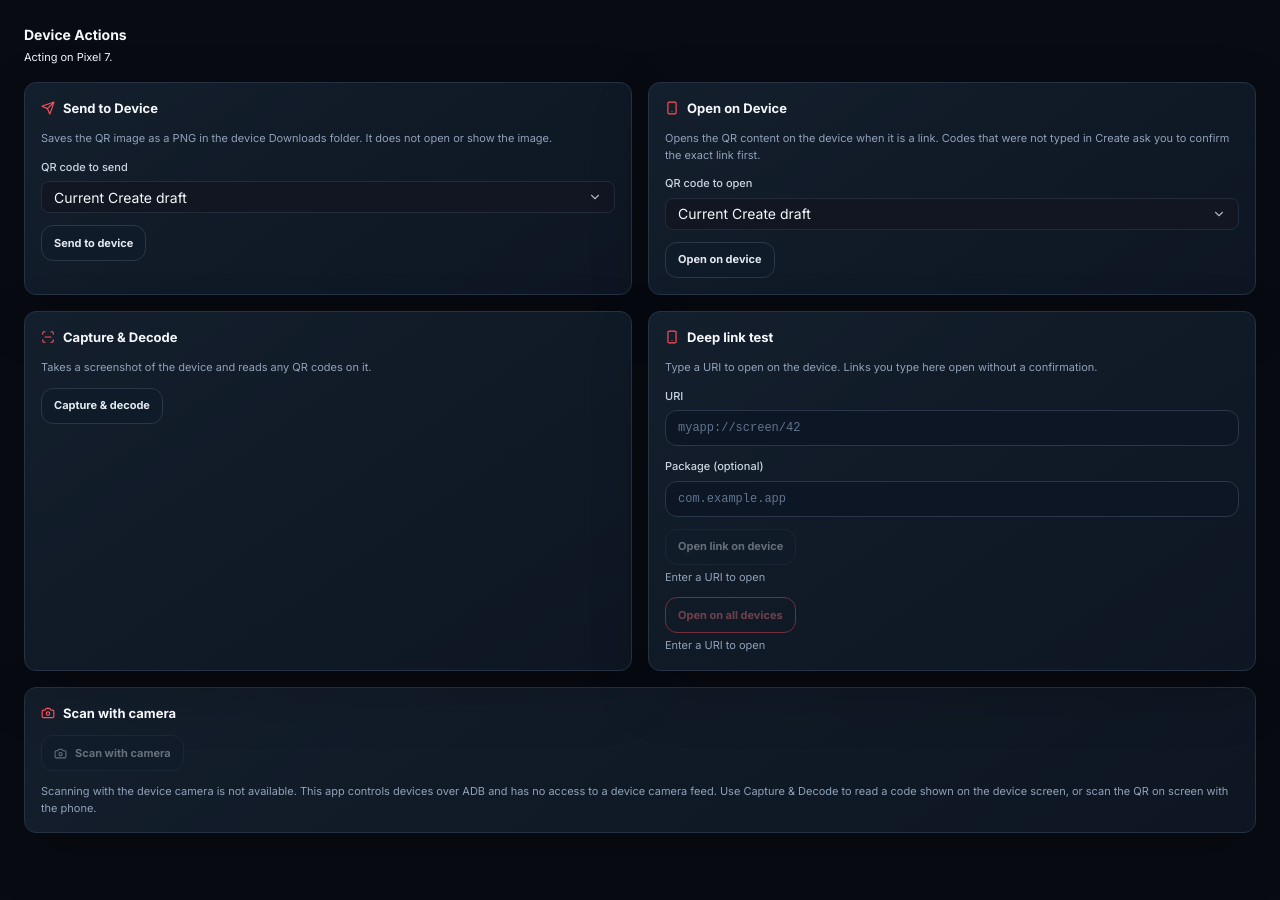
Test case: Open on all devices › reports failures without stopping the other devices (allSettled)
Type "https://example.com/open" into the field labelled "URI". click: (952, 428)
box: [665,410,1239,446]
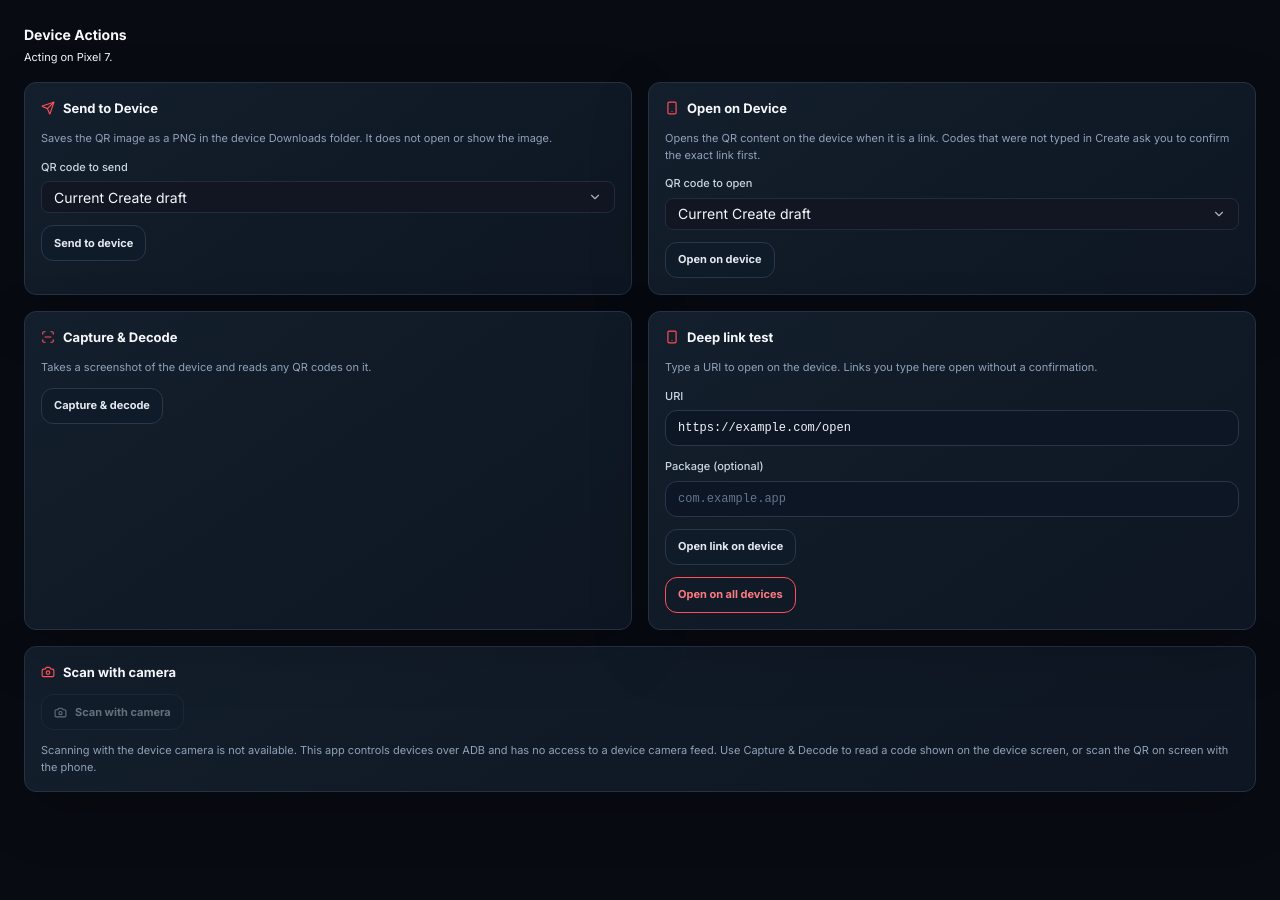
Click the button "Open on all devices". click: (730, 594)
box: [665,576,796,612]
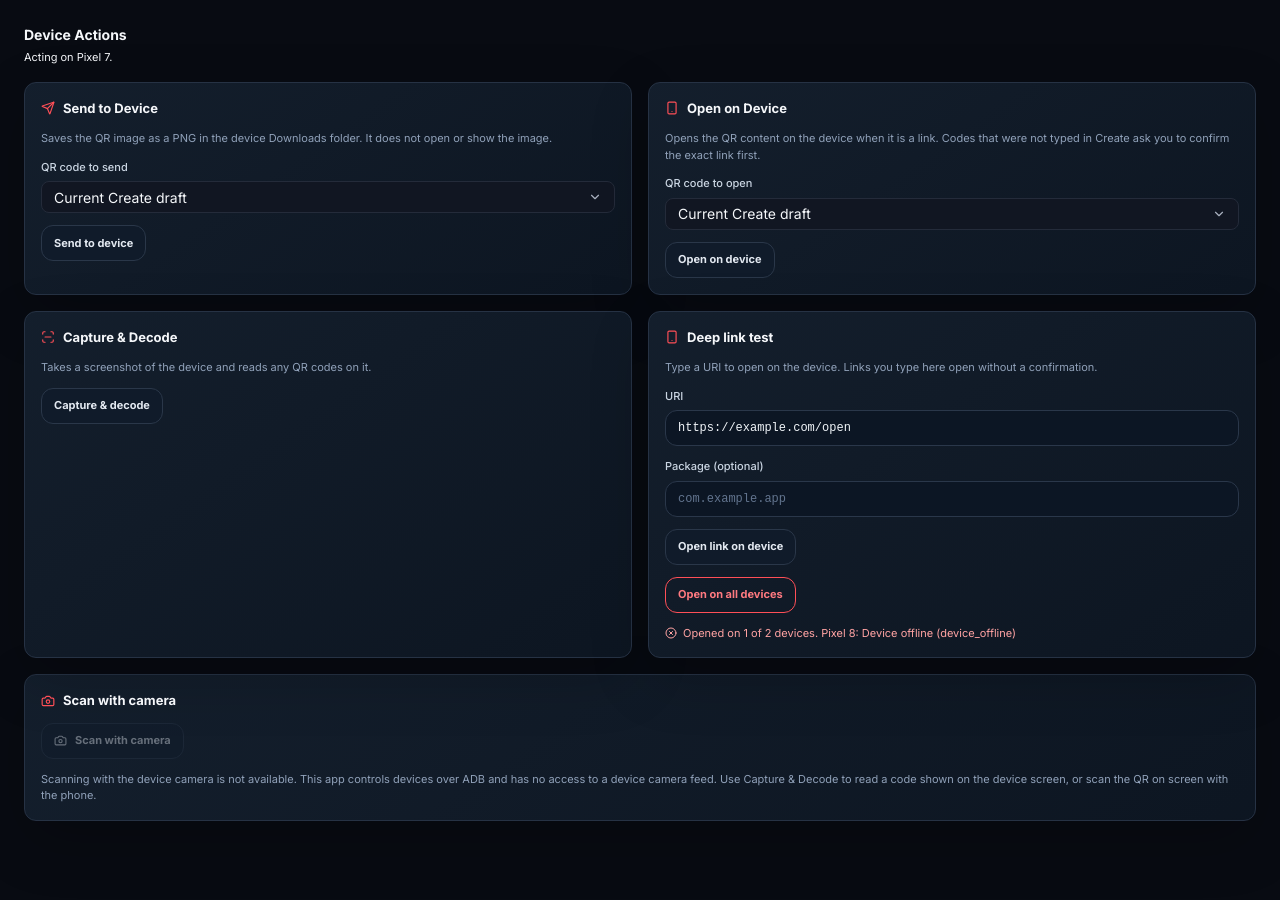
expect the message named "Last broadcast result" shows "Opened on 1 of 2 devices": met, box [683,626,1016,640]
expect the message named "Last broadcast result" shows "Pixel 8": met, box [683,626,1016,640]
